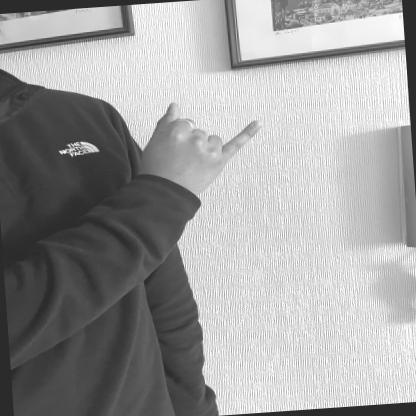J: (136, 92, 273, 198)
